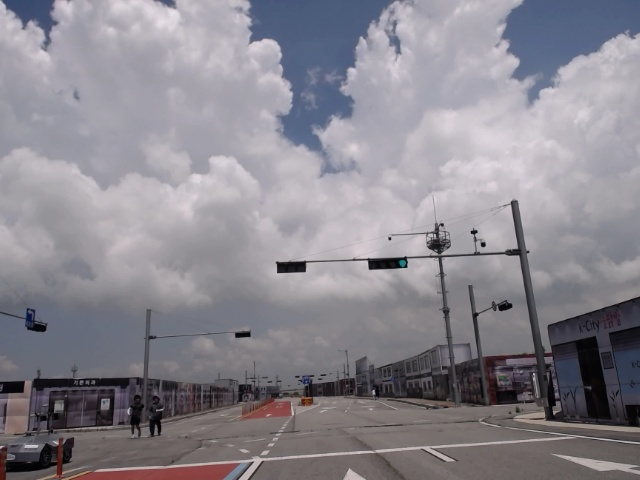straight_green_4: (370, 256, 410, 269)
